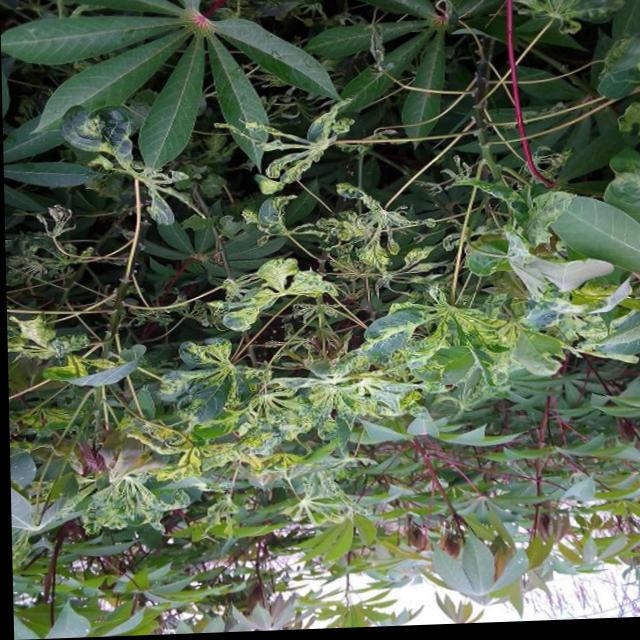Mosaico: (309, 167, 472, 292), (44, 96, 191, 221), (246, 100, 372, 190), (281, 345, 445, 414), (139, 411, 296, 479), (400, 304, 534, 371), (209, 249, 336, 318), (14, 314, 138, 383), (75, 461, 187, 533), (151, 345, 267, 404)
